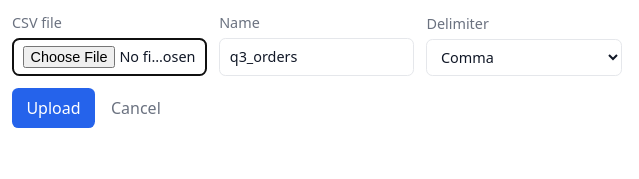
Test: shows the API's reason when an upload is refused
Earlier steps of the test are not shown.
Click the button "Upload".
click(54, 108)  # box [12,88,95,128]
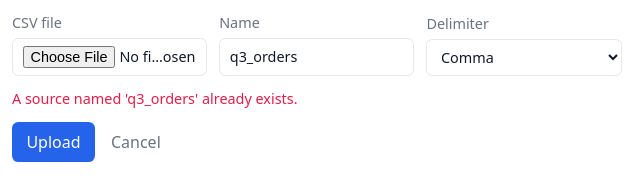
Now the text "A source named 'q3_orders' already exists." is shown, box [12,89,298,108]
